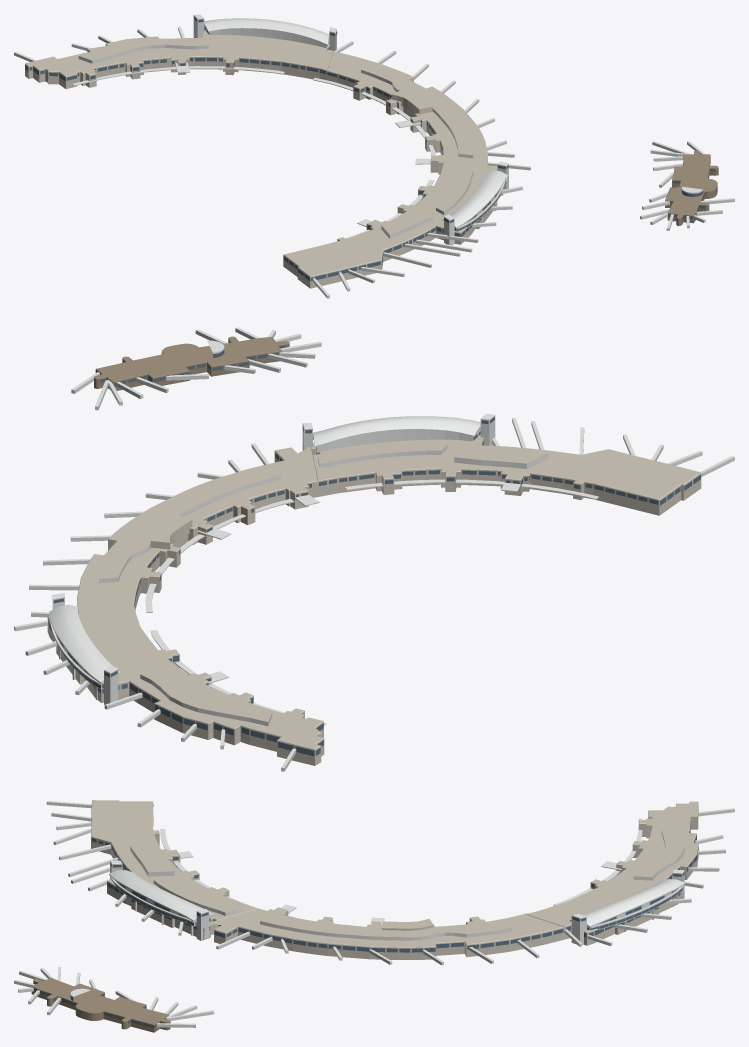
File: dal-dfw-terminal-e.glb
3 renders of one model, top to bottom at view 1: azimuth 30°, elevation 25°; view 2: azimuth 150°, elevation 25°; view 3: azimuth 270°, elevation 25°, orthographic. The views are drawn at different scales.
Parts seen in each view (by area): view 1: DFW Airport Terminal E; view 2: DFW Airport Terminal E; view 3: DFW Airport Terminal E.
Part boxes in pixels (x1,y1,x2,y2): DFW Airport Terminal E: (14, 14, 734, 298); DFW Airport Terminal E: (14, 327, 734, 771); DFW Airport Terminal E: (14, 800, 734, 1032).
Bounding box in the file's own units: 497 × 28.9 × 682.
